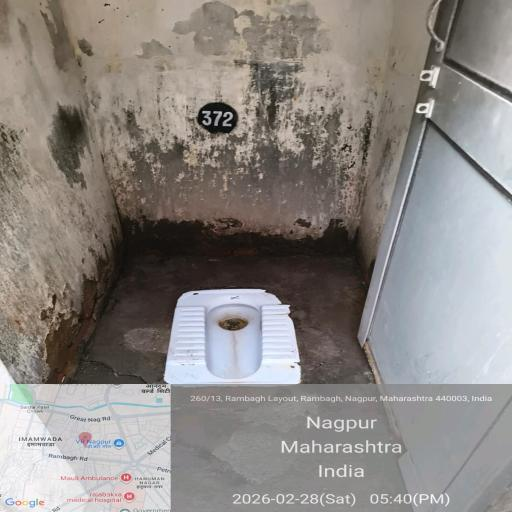dirty_floor: (7, 0, 462, 250)
partial_dirty_indian: (171, 267, 306, 389)
